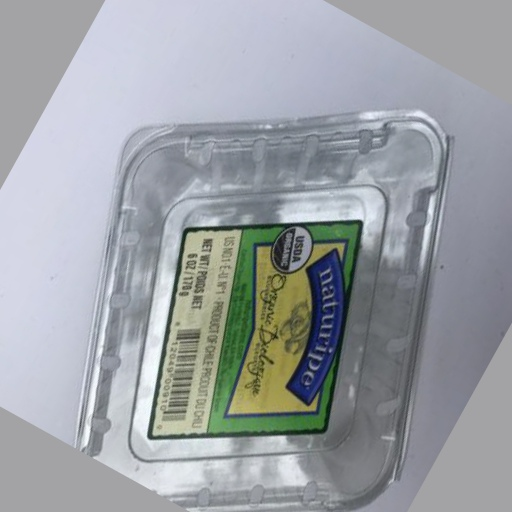Plastic_4: (79, 105, 452, 509)
